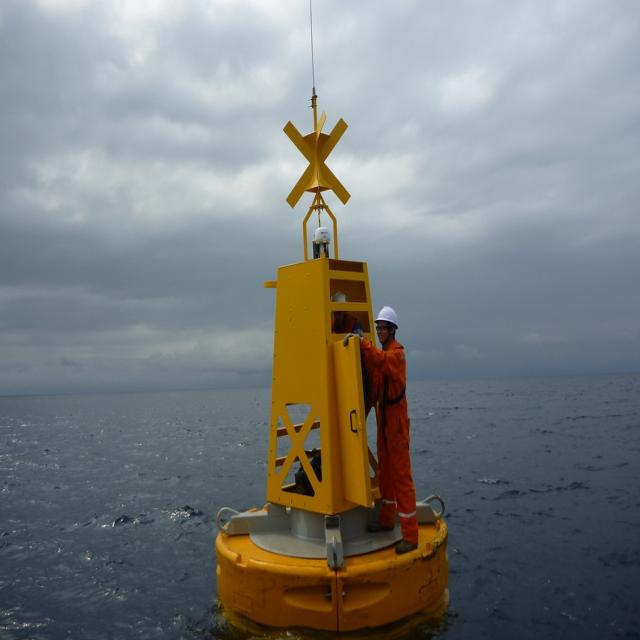buoy: (211, 78, 451, 630)
